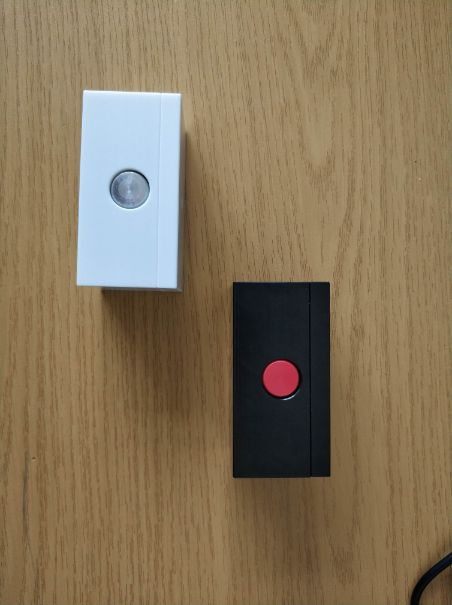black+black+red: (228, 279, 336, 480)
white+white+silver: (73, 87, 188, 297)
